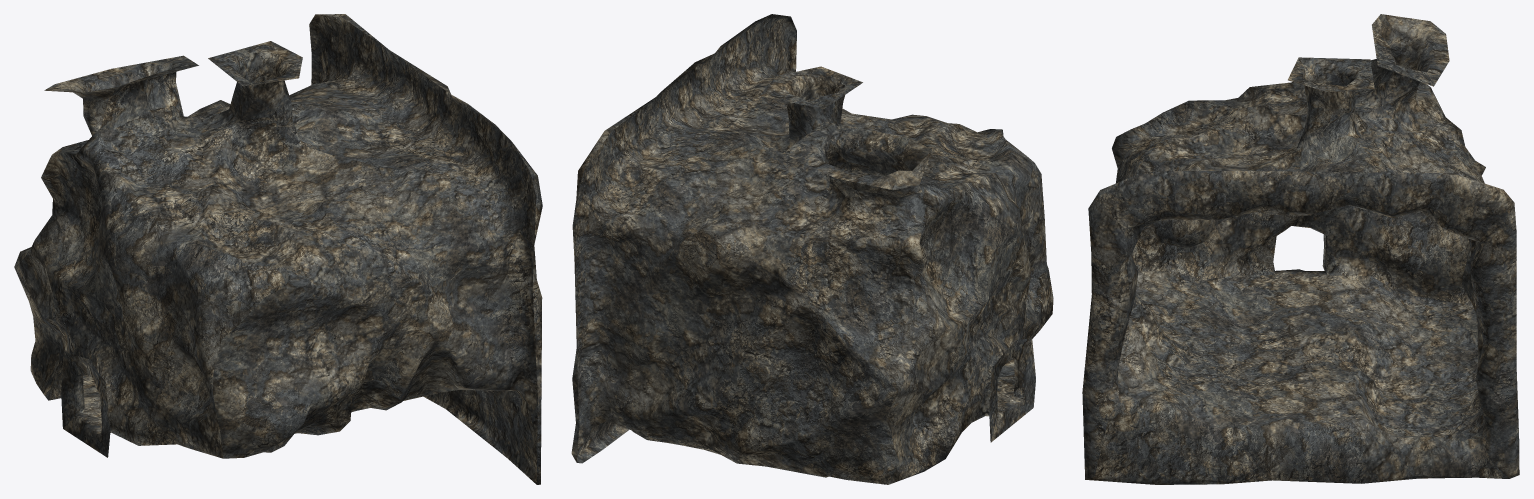
Rendered from Module15B.fbx.
3 views of the same model, side by side, from view 1: azimuth 30°, elevation 25°; view 2: azimuth 150°, elevation 25°; view 3: azimuth 270°, elevation 25° (orthographic). The views are drawn at different scales.
Visible parts, largest first — view 1: cave_el15B_1800:Group12211; view 2: cave_el15B_1800:Group12211; view 3: cave_el15B_1800:Group12211.
Boxes of the visible parts, <box> form: cave_el15B_1800:Group12211: <box>14,14,542,484</box>; cave_el15B_1800:Group12211: <box>571,14,1053,484</box>; cave_el15B_1800:Group12211: <box>1082,14,1519,484</box>.
Bounding box in the file's own units: 31.89 × 31.03 × 35.94.
